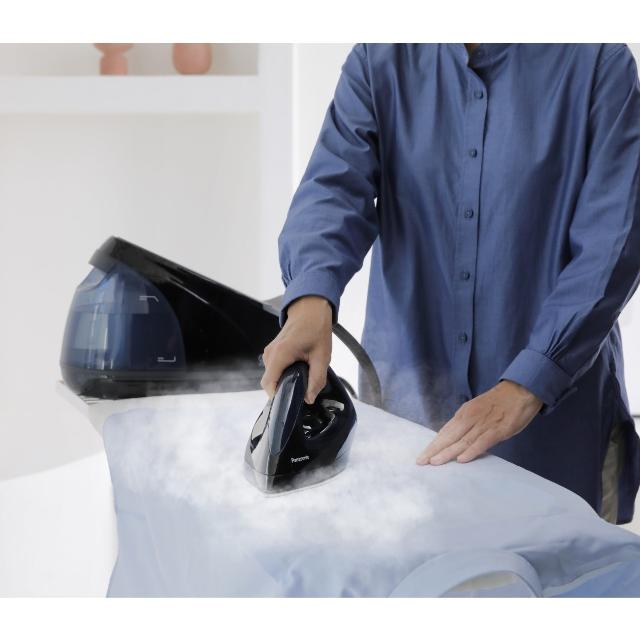Clothes-Iron: (243, 362, 367, 504)
